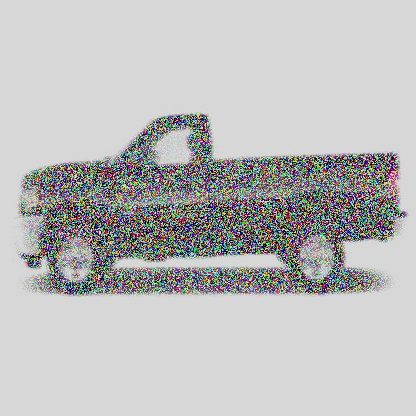Vehicle: (17, 118, 410, 298)
